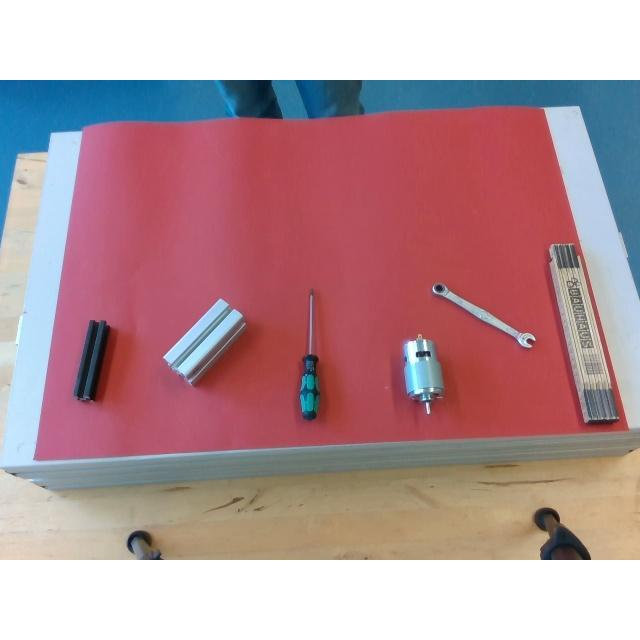F20_20_B: (72, 318, 110, 404)
Motor2: (403, 336, 443, 412)
S40_40_G: (163, 300, 245, 384)
Screwdriver: (299, 286, 325, 422)
Wrench: (430, 282, 534, 346)
